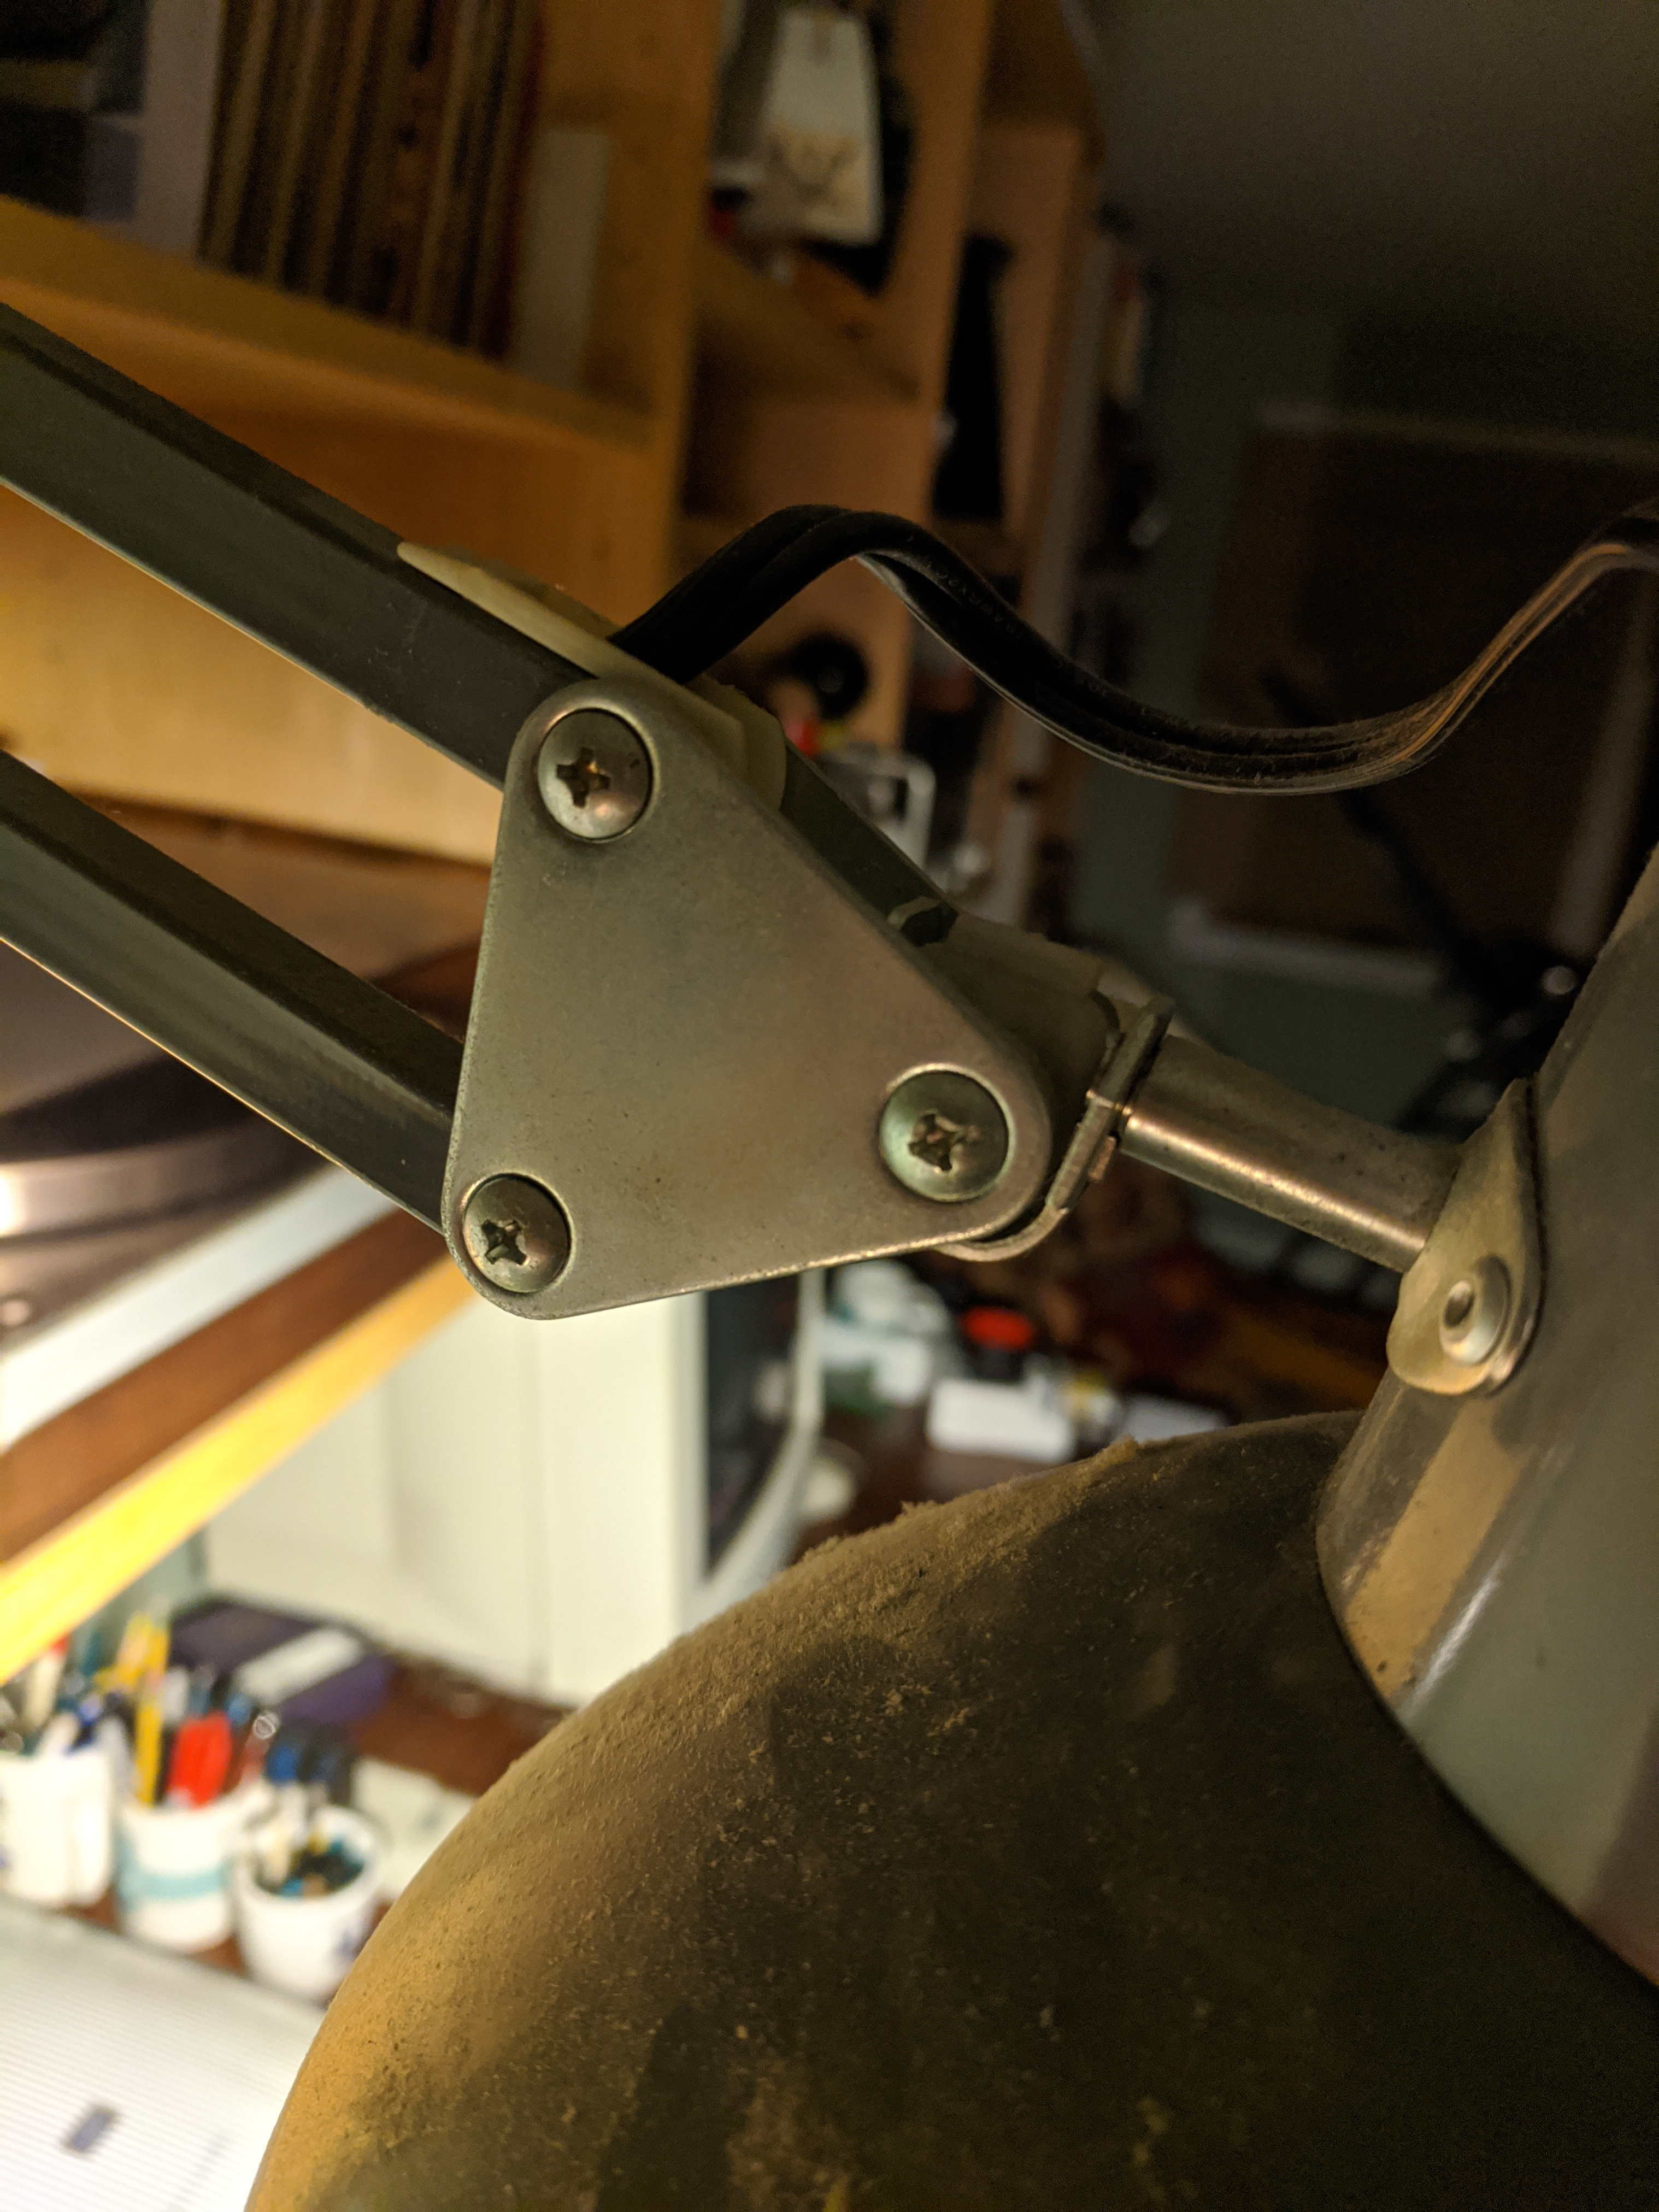cross_recessed_screw: (514, 702, 650, 840), (864, 1066, 999, 1190), (443, 1162, 563, 1289)
